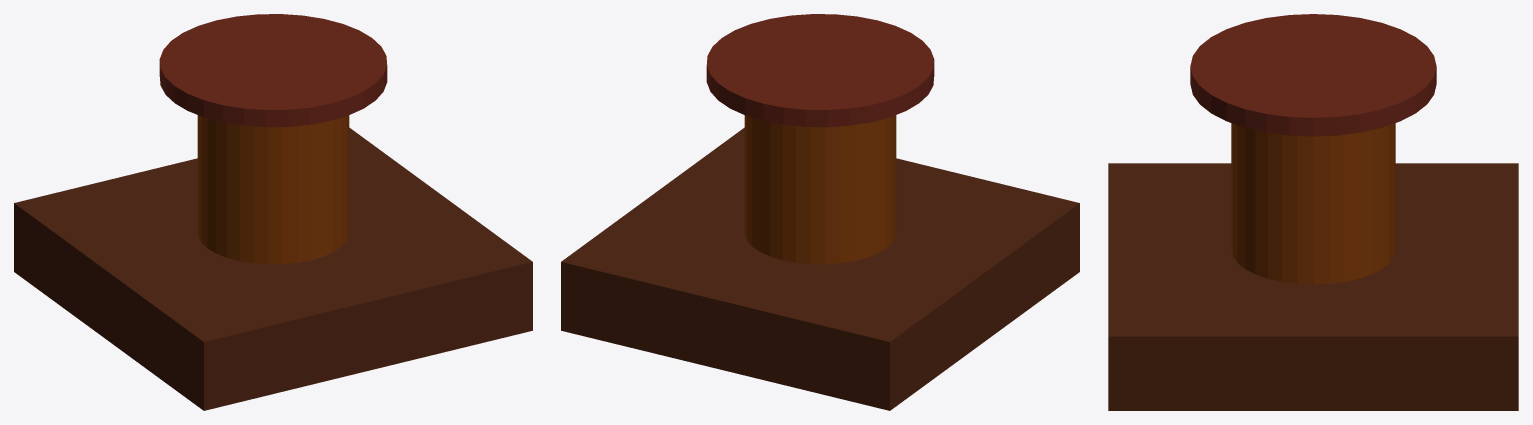
The model's file is case_tour.glb.
3 views of the same model, side by side, from view 1: azimuth 30°, elevation 25°; view 2: azimuth 150°, elevation 25°; view 3: azimuth 270°, elevation 25° (orthographic). The views are drawn at different scales.
Parts seen in each view (by area): view 1: case_mur, Cylindre.001, Cylindre; view 2: case_mur, Cylindre.001, Cylindre; view 3: case_mur, Cylindre.001, Cylindre.
Boxes of the visible parts, x1,y1,x2,y2 form: case_mur: (14,127,532,410); Cylindre.001: (159,14,387,127); Cylindre: (197,115,349,264); case_mur: (561,127,1079,410); Cylindre.001: (706,14,934,127); Cylindre: (744,115,896,264); case_mur: (1108,163,1518,410); Cylindre.001: (1190,14,1436,136); Cylindre: (1231,123,1395,284).
Bounding box in the file's own units: 1 × 0.695 × 1.
